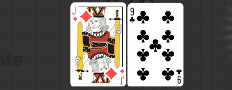9C: (128, 6, 136, 23)
JD: (71, 5, 78, 22)
